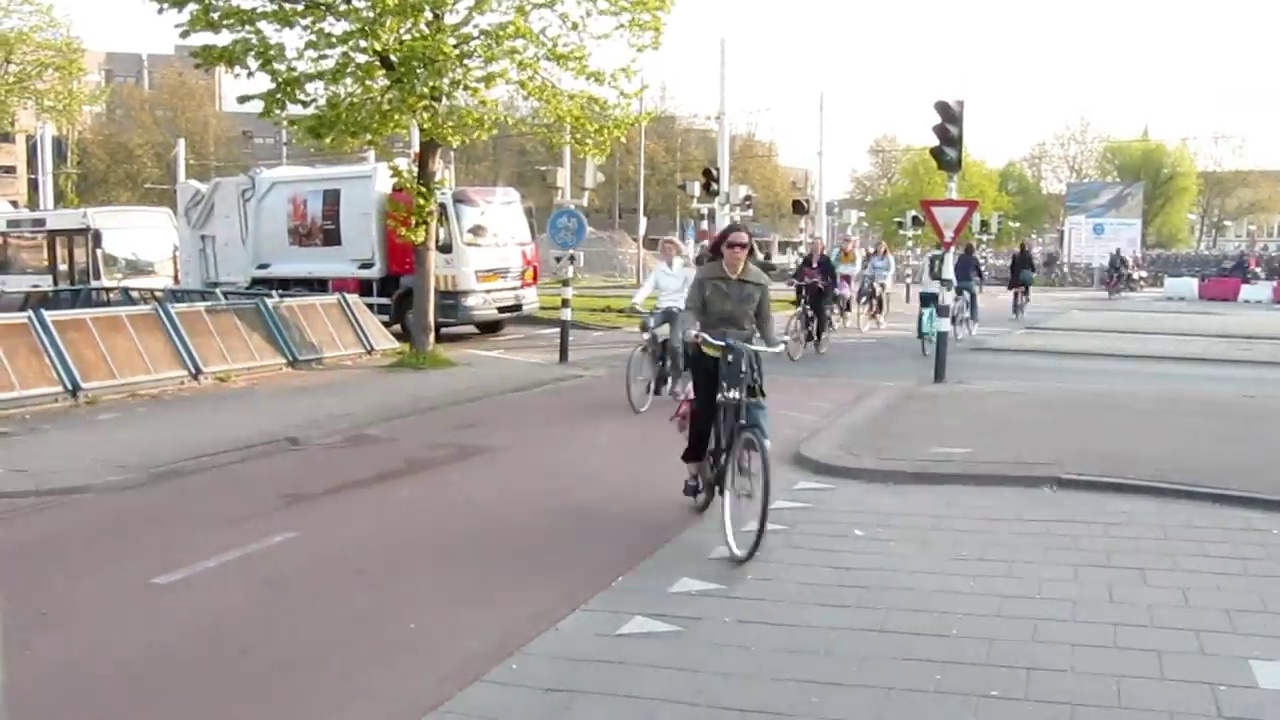cyclist_back: (915, 240, 947, 358), (951, 239, 981, 339), (1006, 240, 1033, 326)
cyclist_front: (680, 227, 785, 575), (622, 229, 695, 419), (788, 236, 839, 363), (857, 238, 899, 332), (833, 229, 869, 335)
